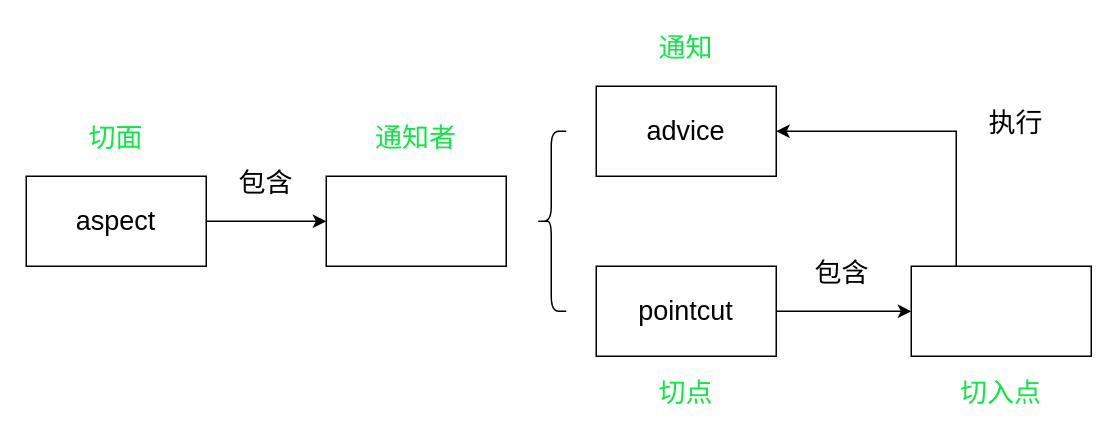
Some shapes in this 1118 by 441 pixel diagram are drawn without their labels. Here are the shapes that lost their labels. From the top down, the centre of each, then its label:
(415,220): advisor
(1000,310): joinpoint
